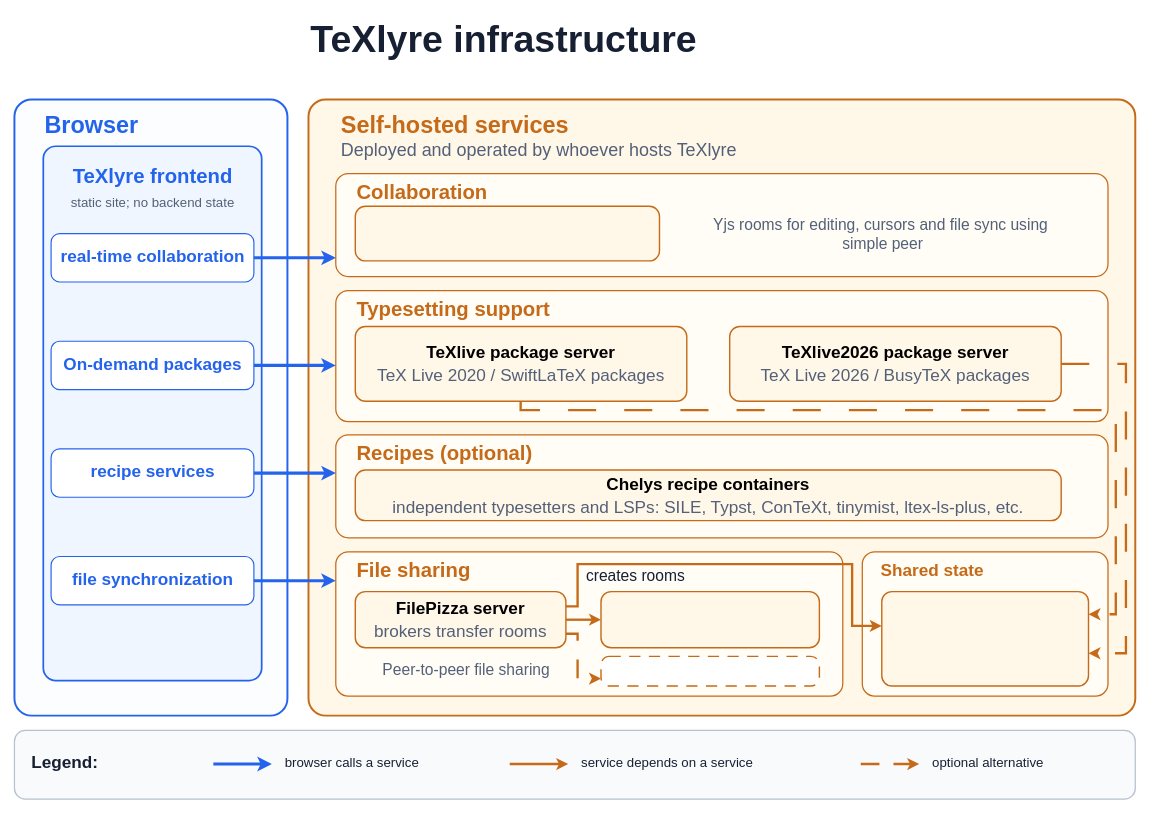
This 1150x813 diagram has some shape labels left out. The shapes that lost their labels are listed below. From the top down, each one's centre as x and y in pixels, then its label:
At pixel 507 233: "Y-WebRTC signaling room signaling only".
At pixel 710 619: "PeerJS signaling self-hosted peer discovery".
At pixel 985 638: "Redis cache used by both TeX Live package servers and FilePizza".
At pixel 710 670: "PeerJS signaling (public)".
